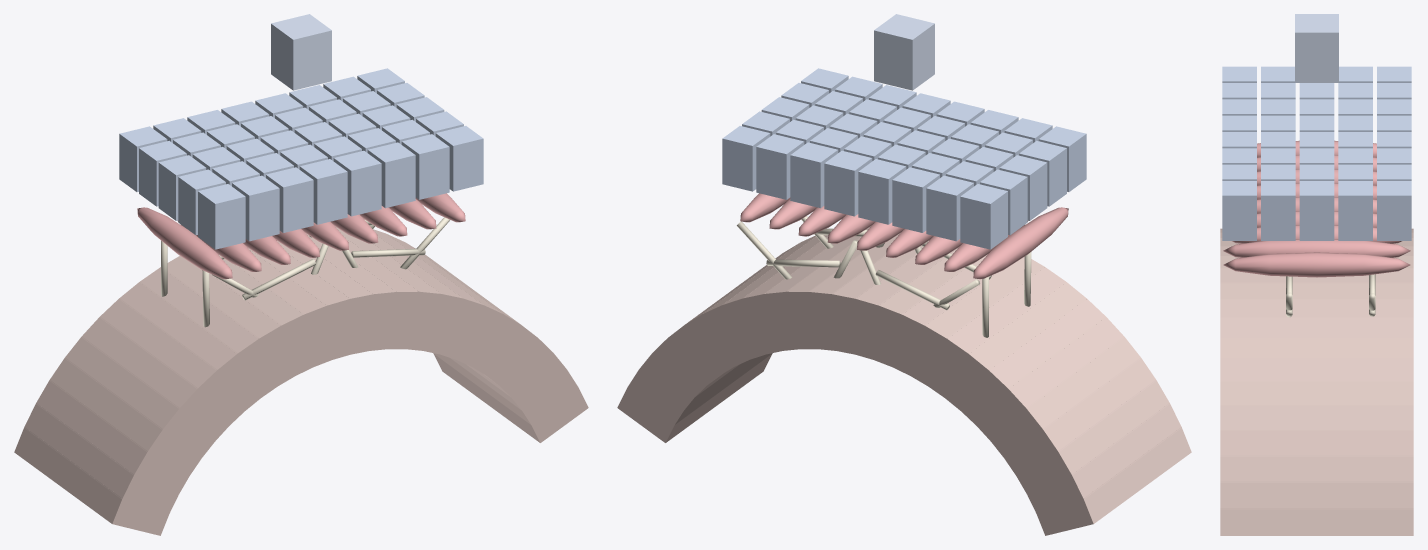
The model's file is tissue_zoom.glb.
The picture shows the model from 3 angles, left to right: view 1: azimuth 30°, elevation 25°; view 2: azimuth 150°, elevation 25°; view 3: azimuth 270°, elevation 25°; orthographic projection.
Visible parts, largest first — view 1: organ_wall, tissue_epithelium, tissue_muscle, cell_one, tissue_connective; view 2: organ_wall, tissue_epithelium, tissue_muscle, cell_one, tissue_connective; view 3: organ_wall, tissue_epithelium, tissue_muscle, cell_one, tissue_connective.
Part boxes in pixels (left/top/right/bottom): organ_wall: left=14, top=226, right=588, bottom=535; tissue_epithelium: left=119, top=68, right=483, bottom=249; tissue_muscle: left=137, top=193, right=465, bottom=279; cell_one: left=271, top=14, right=331, bottom=90; tissue_connective: left=161, top=217, right=449, bottom=327; organ_wall: left=617, top=226, right=1191, bottom=535; tissue_epithelium: left=722, top=68, right=1086, bottom=249; tissue_muscle: left=740, top=193, right=1068, bottom=279; cell_one: left=874, top=14, right=934, bottom=90; tissue_connective: left=736, top=216, right=1031, bottom=337; organ_wall: left=1220, top=228, right=1413, bottom=535; tissue_epithelium: left=1222, top=66, right=1411, bottom=240; tissue_muscle: left=1223, top=140, right=1410, bottom=277; cell_one: left=1295, top=14, right=1338, bottom=82; tissue_connective: left=1286, top=274, right=1375, bottom=317.
Bounding box in the file's own units: 1.96 × 1.68 × 0.7.
